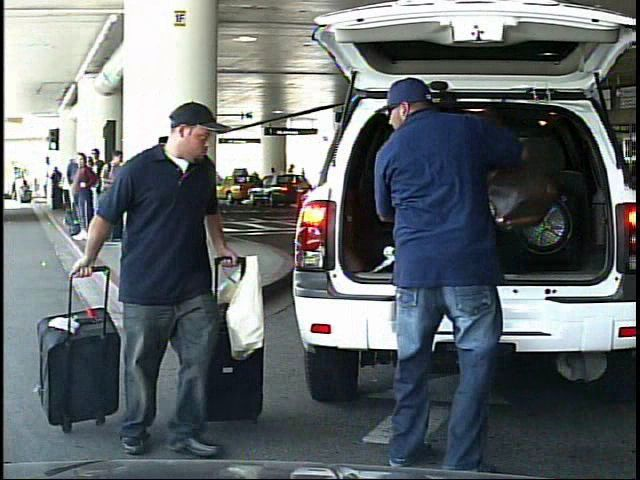person: (355, 74, 541, 476), (97, 113, 257, 455), (285, 162, 299, 197), (15, 172, 26, 204)
